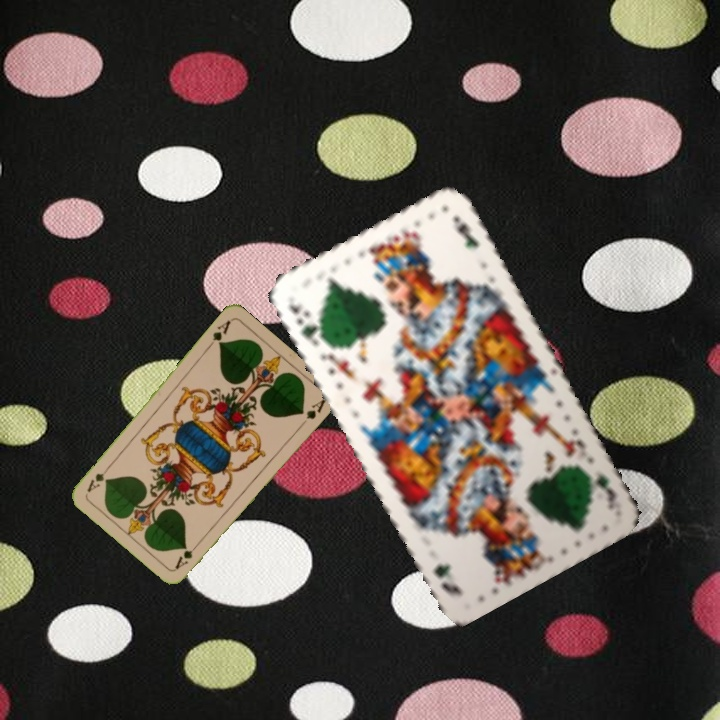GA: (171, 538, 203, 571), (204, 316, 233, 351)
GK: (283, 297, 328, 347), (582, 465, 619, 513)
